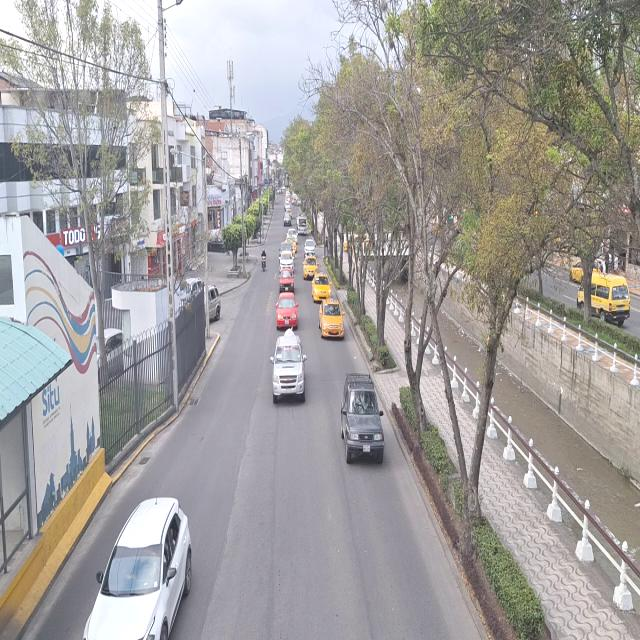CMT: (274, 335, 305, 403)
MOTORCYCLE: (261, 256, 267, 272)
SED: (320, 303, 343, 338)
SUV: (89, 495, 188, 640), (340, 374, 383, 461)
